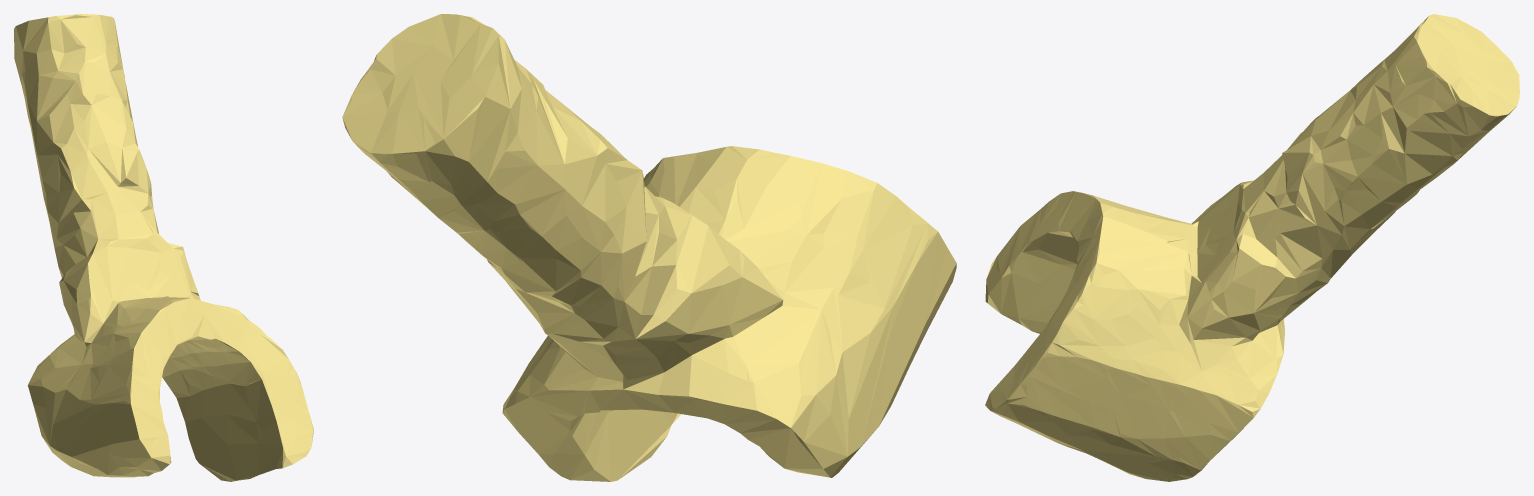
File: spider-5.glb
The picture shows the model from 3 angles, left to right: view 1: azimuth 30°, elevation 25°; view 2: azimuth 150°, elevation 25°; view 3: azimuth 270°, elevation 25°; orthographic projection. The views are drawn at different scales.
Parts seen in each view (by area): view 1: part_05; view 2: part_05; view 3: part_05.
Boxes of the visible parts, x1=… form: part_05: x1=14, y1=14, x2=313, y2=481; part_05: x1=342, y1=14, x2=956, y2=481; part_05: x1=985, y1=14, x2=1519, y2=481.
Bounding box in the file's own units: 0.1228 × 0.2332 × 0.2586.
